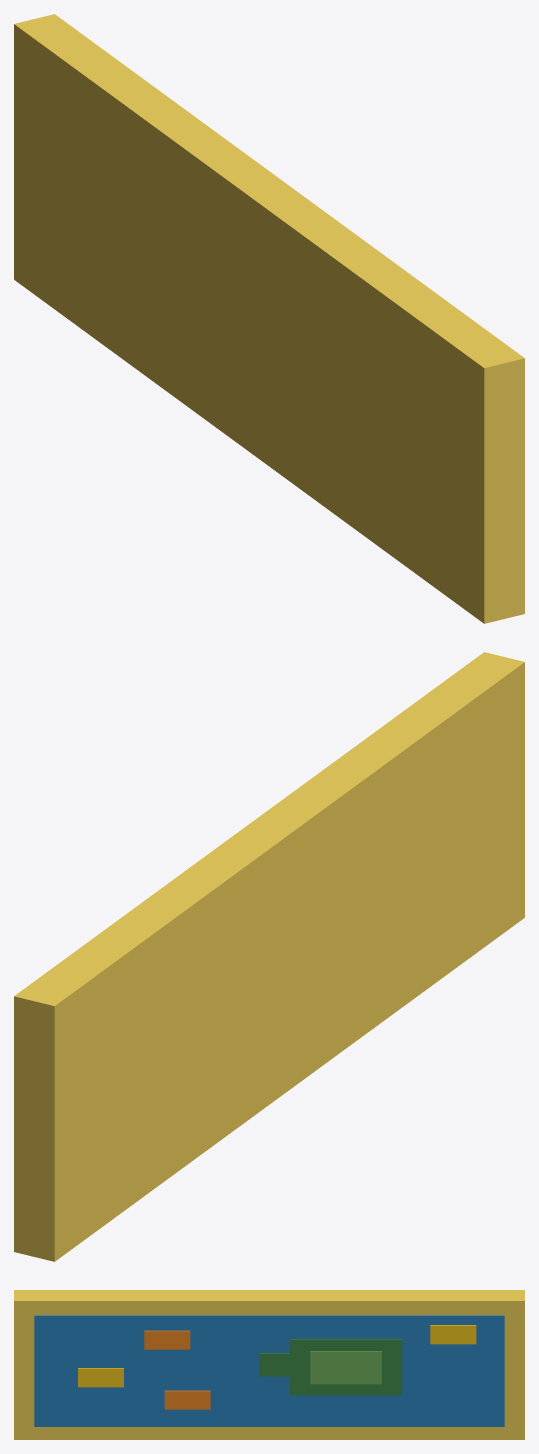
File: nb_mural.glb
3 views of the same model, one above another, from view 1: azimuth 30°, elevation 25°; view 2: azimuth 150°, elevation 25°; view 3: azimuth 270°, elevation 25° (orthographic). The views are drawn at different scales.
Parts seen in each view (by area): view 1: nb_mural_lod0; view 2: nb_mural_lod0; view 3: nb_mural_lod0.
Boxes of the visible parts, x1,y1,x2,y2 form: nb_mural_lod0: [14, 14, 524, 623]; nb_mural_lod0: [14, 652, 524, 1261]; nb_mural_lod0: [14, 1290, 524, 1439].
Size of what is drawn, in the model's own units: 0.5896 by 3 by 10.
